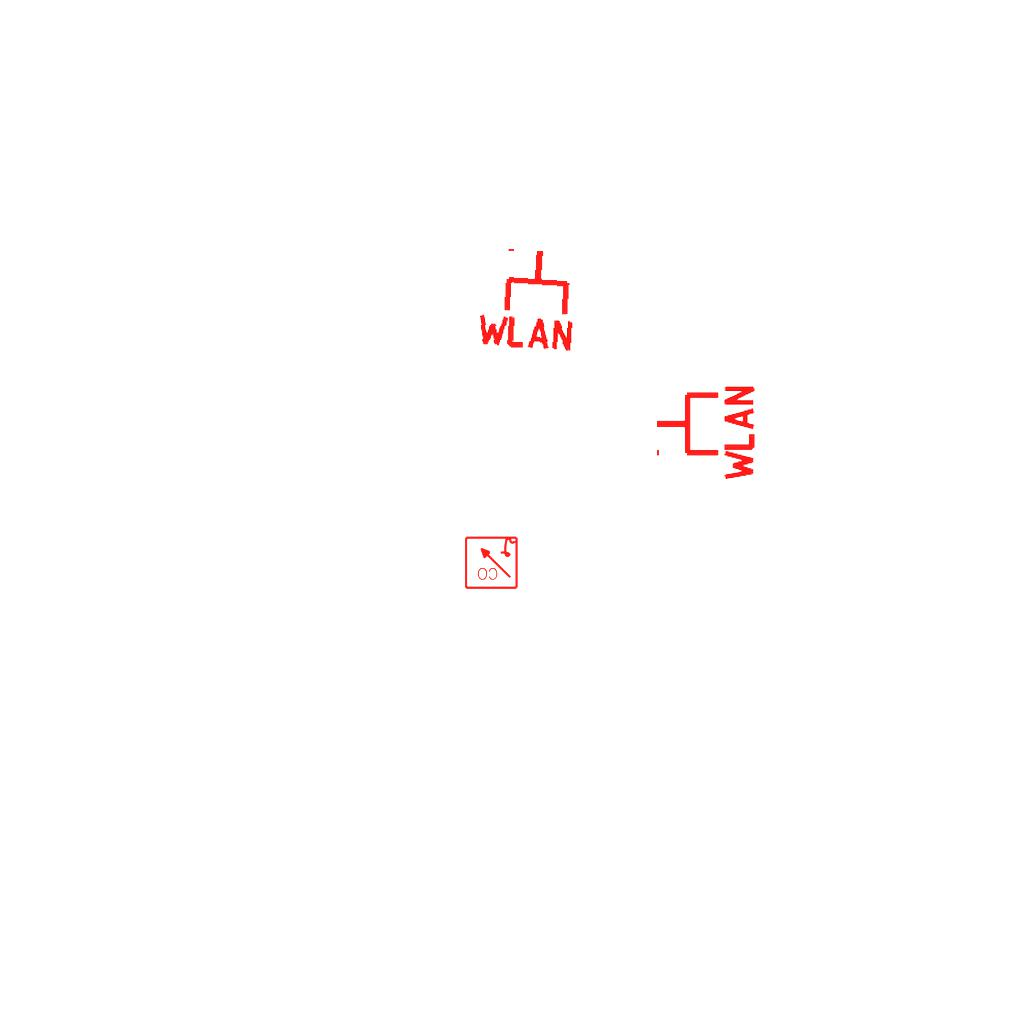ROA_Rauchmelder_optisch_mit_Signalgeber_(Sockelsirene): (463, 534, 519, 590)
WLAN: (471, 242, 584, 354), (652, 381, 757, 485)
